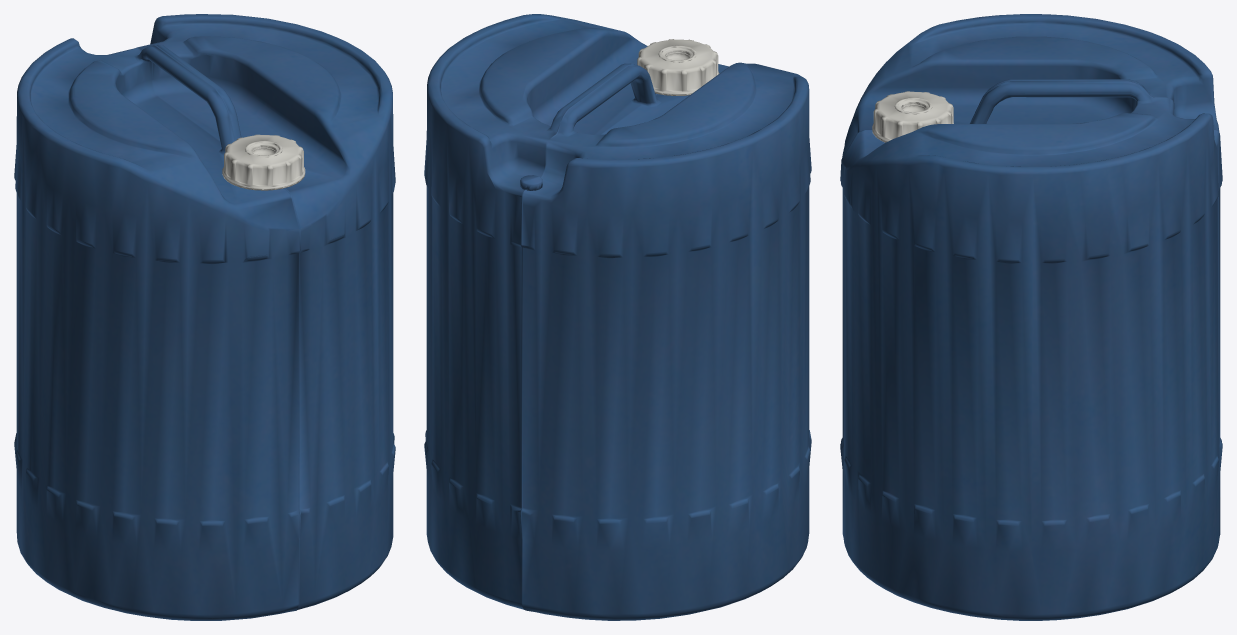
The model's file is drum_blue.glb.
The picture shows the model from 3 angles, left to right: view 1: azimuth 30°, elevation 25°; view 2: azimuth 150°, elevation 25°; view 3: azimuth 270°, elevation 25°; orthographic projection.
Parts seen in each view (by area): view 1: sm_drum_a01_mesh_00 (×2); view 2: sm_drum_a01_mesh_00 (×2); view 3: sm_drum_a01_mesh_00 (×2).
Part boxes in pixels (x1,y1,x2,y2): sm_drum_a01_mesh_00 (×2): [14, 14, 395, 620]; sm_drum_a01_mesh_00 (×2): [424, 14, 811, 620]; sm_drum_a01_mesh_00 (×2): [840, 14, 1222, 620].
Size of the model in its own units: 0.2828 by 0.3872 by 0.2842.
2 materials, 2 textured.
